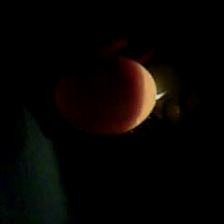fertile: (46, 51, 162, 137)
